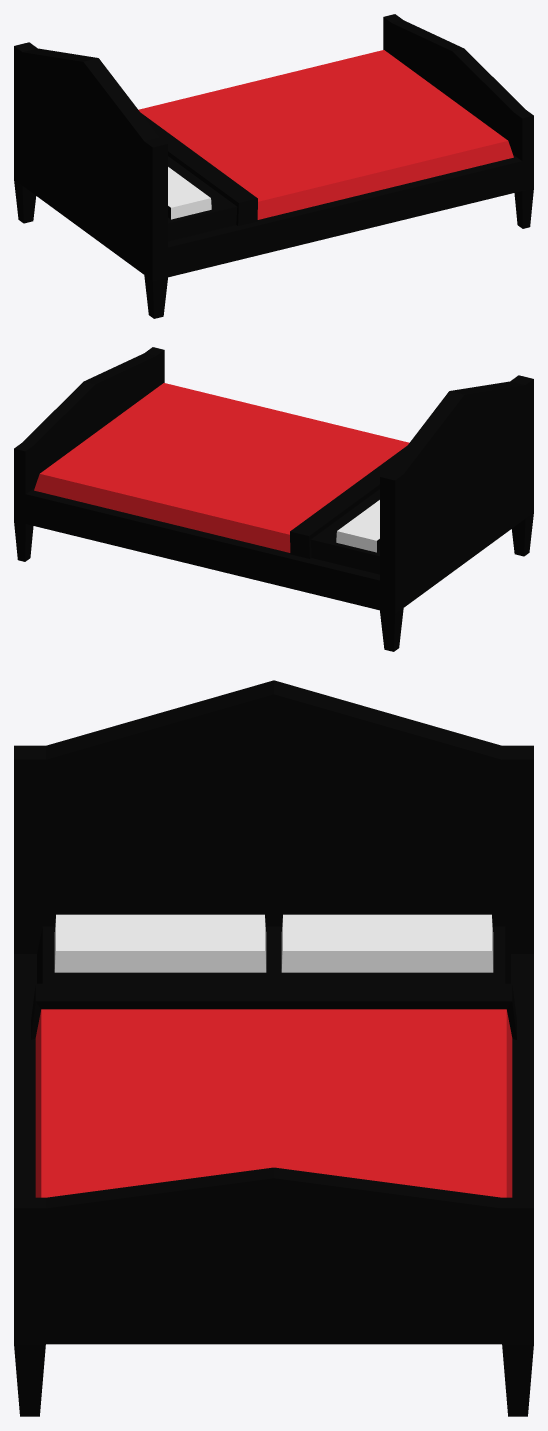
File: assetBedroom.fbx
The picture shows the model from 3 angles, top to bottom: view 1: azimuth 30°, elevation 25°; view 2: azimuth 150°, elevation 25°; view 3: azimuth 270°, elevation 25°; orthographic projection. The views are drawn at different scales.
Parts seen in each view (by area): view 1: Cube; view 2: Cube; view 3: Cube.
Boxes of the visible parts, x1=… form: Cube: x1=14, y1=14, x2=533, y2=318; Cube: x1=14, y1=347, x2=533, y2=651; Cube: x1=14, y1=680, x2=533, y2=1416.
Bounding box in the file's own units: 1300 × 679 × 820.
